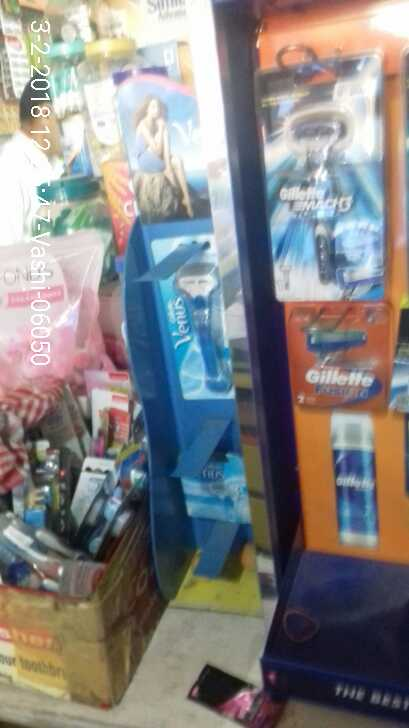beauty: (247, 79, 382, 303), (139, 265, 239, 400)
